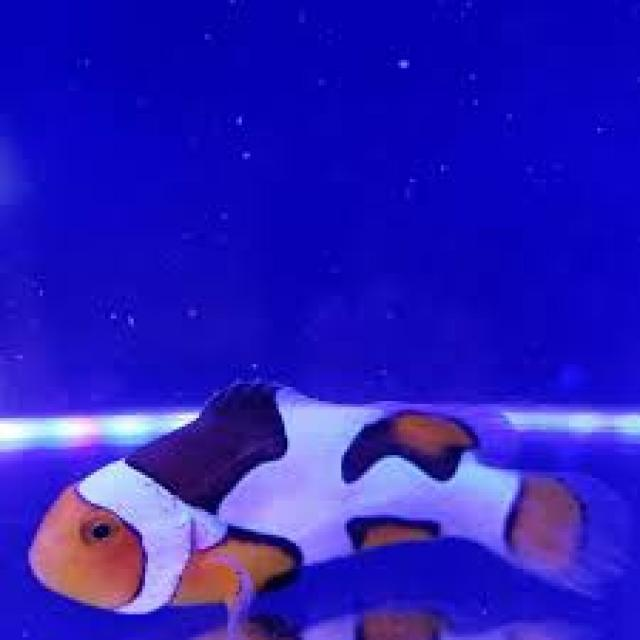ClownFish: (31, 382, 612, 608)
